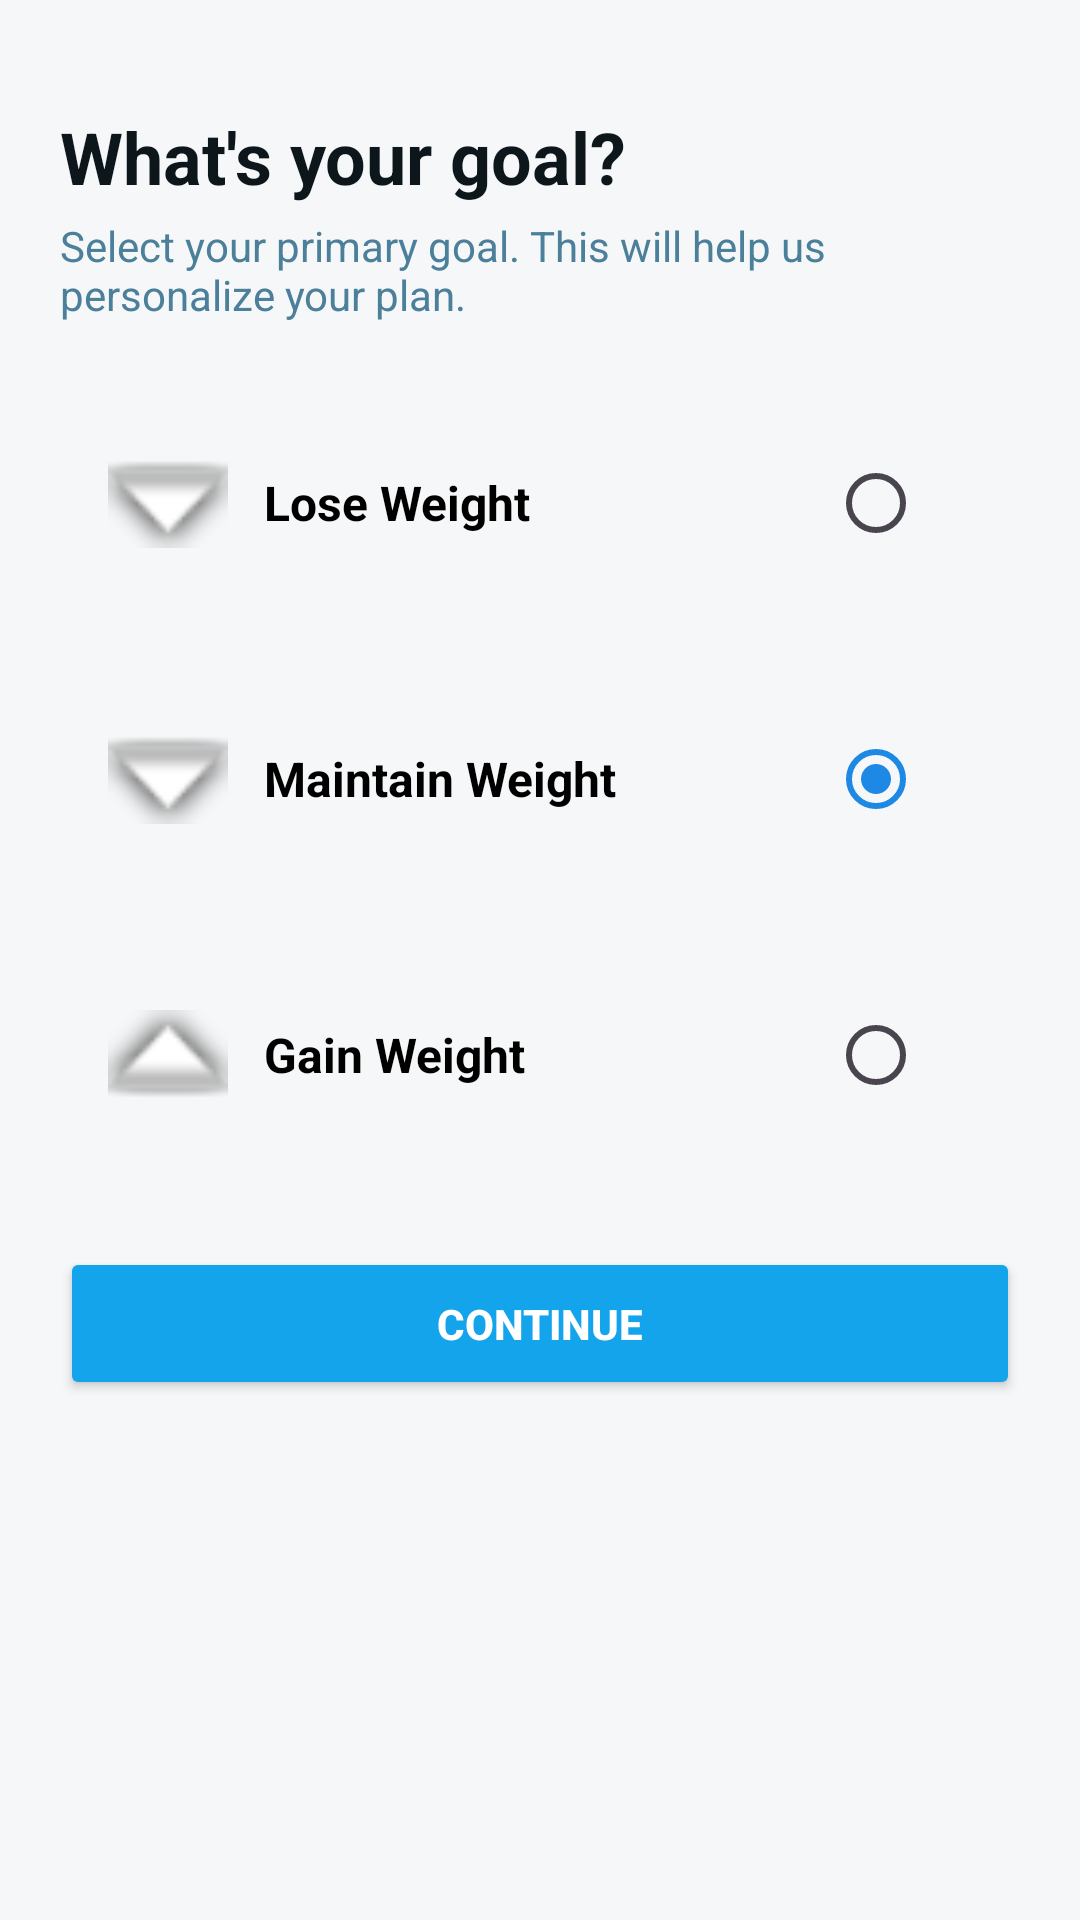

Where to tap for icons on this 1080w x 1920h app screen, as (x,y):
arrow down float: (168,504), (168,780)
arrow up float: (168,1054)
